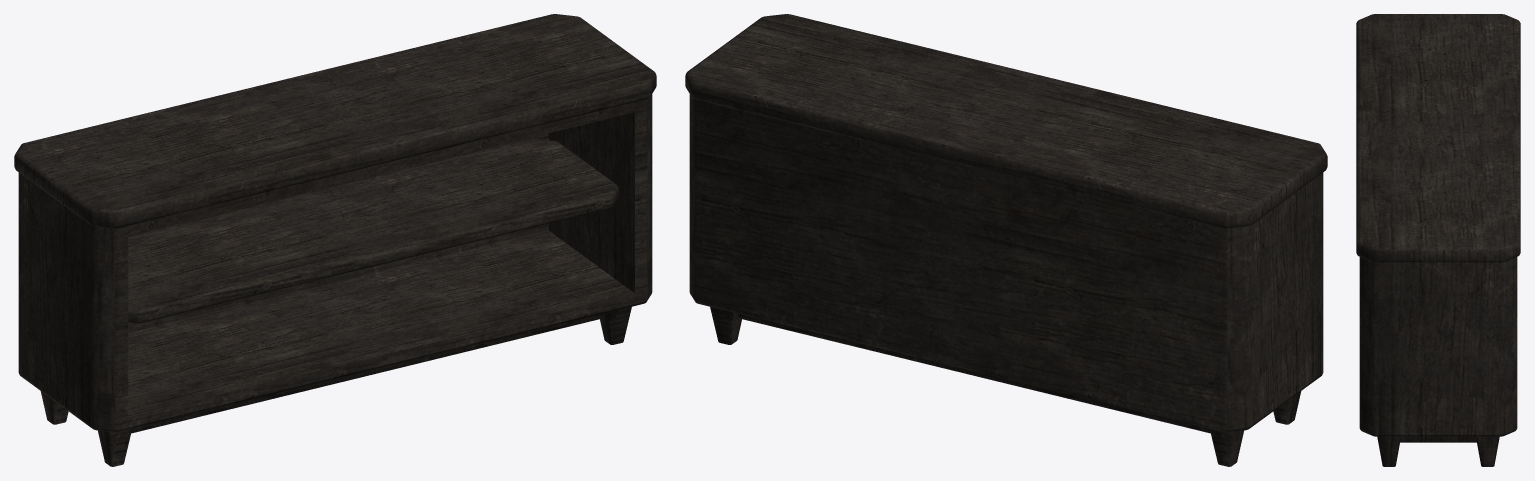
The model's file is wardrobe_8.fbx.
3 renders of one model, left to right at view 1: azimuth 30°, elevation 25°; view 2: azimuth 150°, elevation 25°; view 3: azimuth 270°, elevation 25°, orthographic. The views are drawn at different scales.
Visible parts, largest first — view 1: wardrobe_8; view 2: wardrobe_8; view 3: wardrobe_8.
Part boxes in pixels (bbox=[...]): wardrobe_8: bbox=[14, 14, 656, 466]; wardrobe_8: bbox=[685, 14, 1327, 466]; wardrobe_8: bbox=[1356, 14, 1520, 466].
Bounding box in the file's own units: 1.7 × 0.5 × 0.77.
